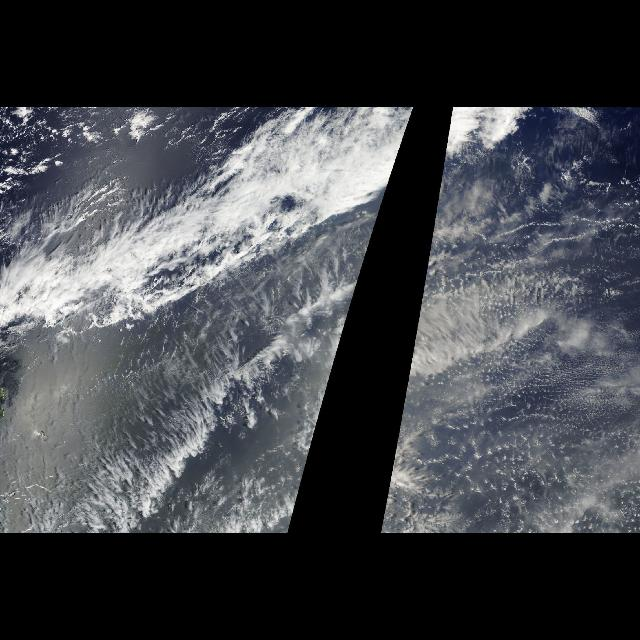Fish: (0, 113, 412, 532), (381, 113, 569, 532)
Gravel: (399, 321, 636, 534)
